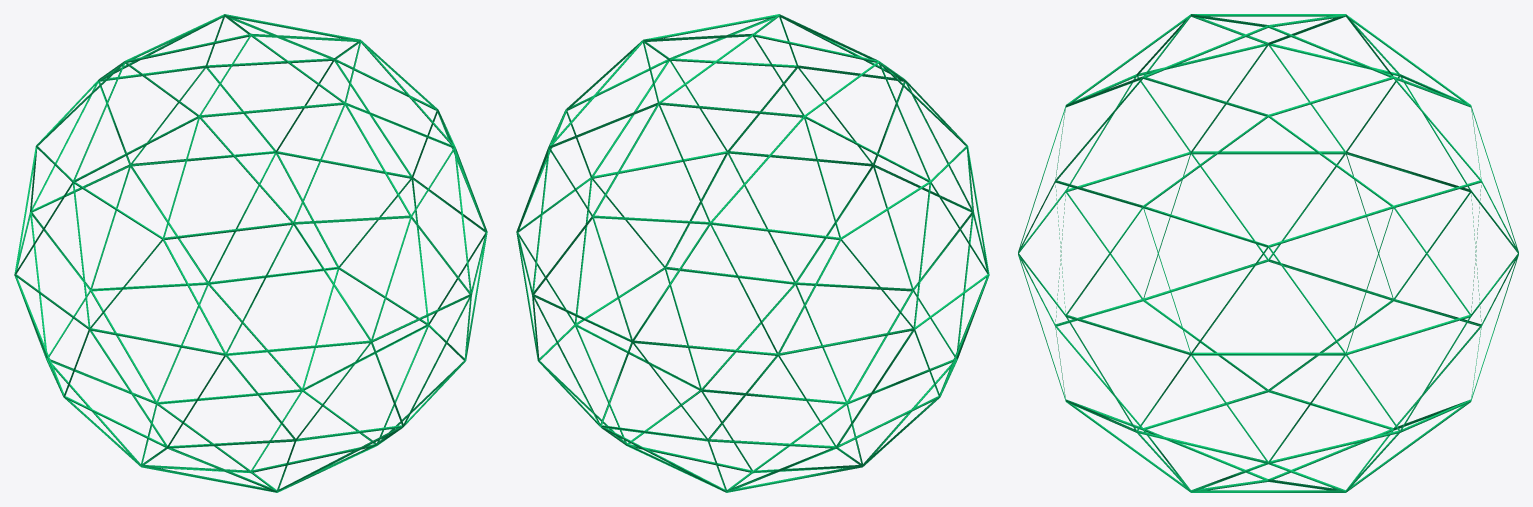
3 renders of one model, left to right at view 1: azimuth 30°, elevation 25°; view 2: azimuth 150°, elevation 25°; view 3: azimuth 270°, elevation 25°, orthographic. The views are drawn at different scales.
Parts seen in each view (by area): view 1: Icosphere; view 2: Icosphere; view 3: Icosphere.
Boxes of the visible parts, x1,y1,x2,y2 form: Icosphere: [14, 14, 487, 492]; Icosphere: [516, 14, 989, 492]; Icosphere: [1018, 14, 1518, 492].
Bounding box in the file's own units: 1.91 × 2.01 × 2.
